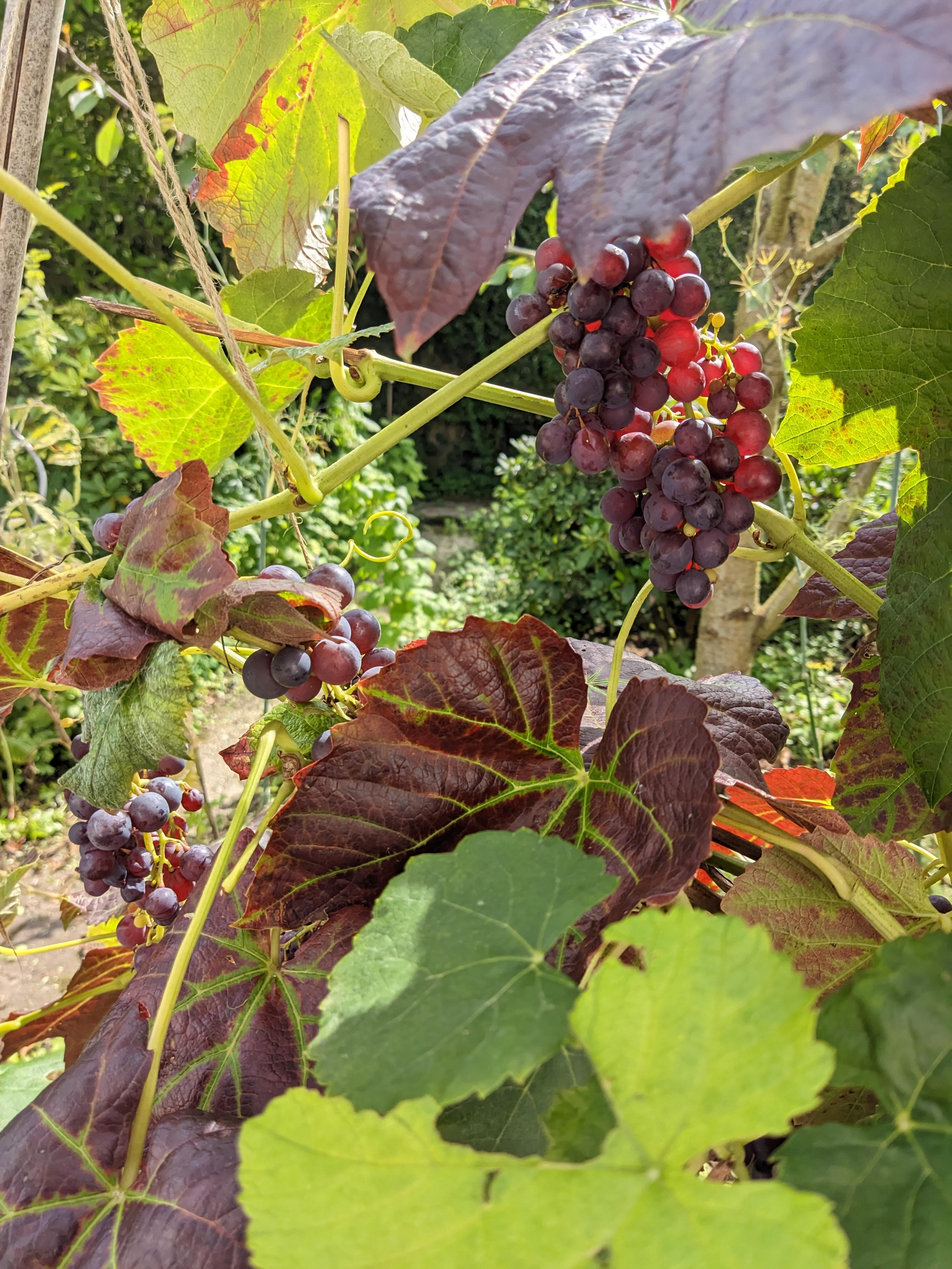Grape Ripe: (509, 212, 774, 452), (608, 341, 784, 615), (69, 733, 214, 947), (237, 560, 407, 705)
